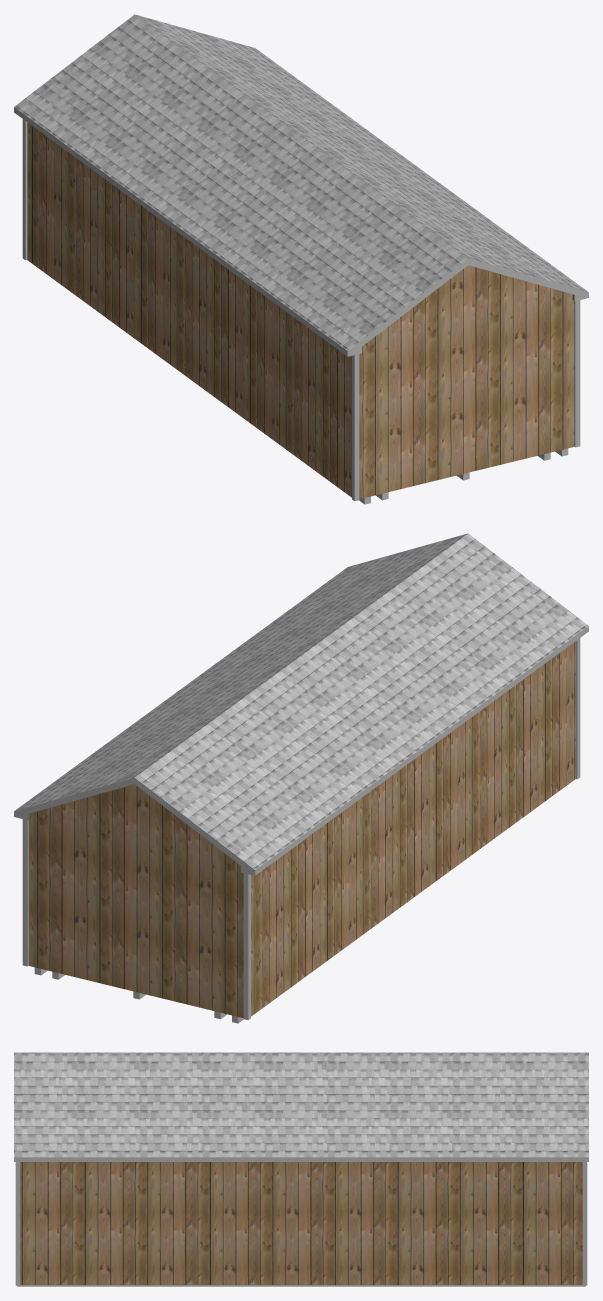
The model's file is Single Garage A-frame_12x32.obj.
3 views of the same model, one above another, from view 1: azimuth 30°, elevation 25°; view 2: azimuth 150°, elevation 25°; view 3: azimuth 270°, elevation 25° (orthographic). The views are drawn at different scales.
Visible parts, largest first — view 1: Shed, Roof, Sides, Trim; view 2: Shed, Roof, Sides, Trim; view 3: Shed, Roof, Sides, Trim, Floor.
Boxes of the visible parts, <box> form: Shed: <box>27,122,574,499</box>; Roof: <box>14,14,587,350</box>; Sides: <box>14,107,588,356</box>; Trim: <box>22,119,580,501</box>; Shed: <box>28,641,575,1018</box>; Roof: <box>15,533,588,869</box>; Sides: <box>14,626,588,875</box>; Trim: <box>22,638,580,1020</box>; Shed: <box>20,1162,582,1284</box>; Roof: <box>14,1052,588,1157</box>; Sides: <box>14,1157,588,1161</box>; Trim: <box>15,1162,587,1285</box>; Floor: <box>17,1285,585,1286</box>.
Size of the model in its own units: 3.86 by 3.4 by 9.25.
